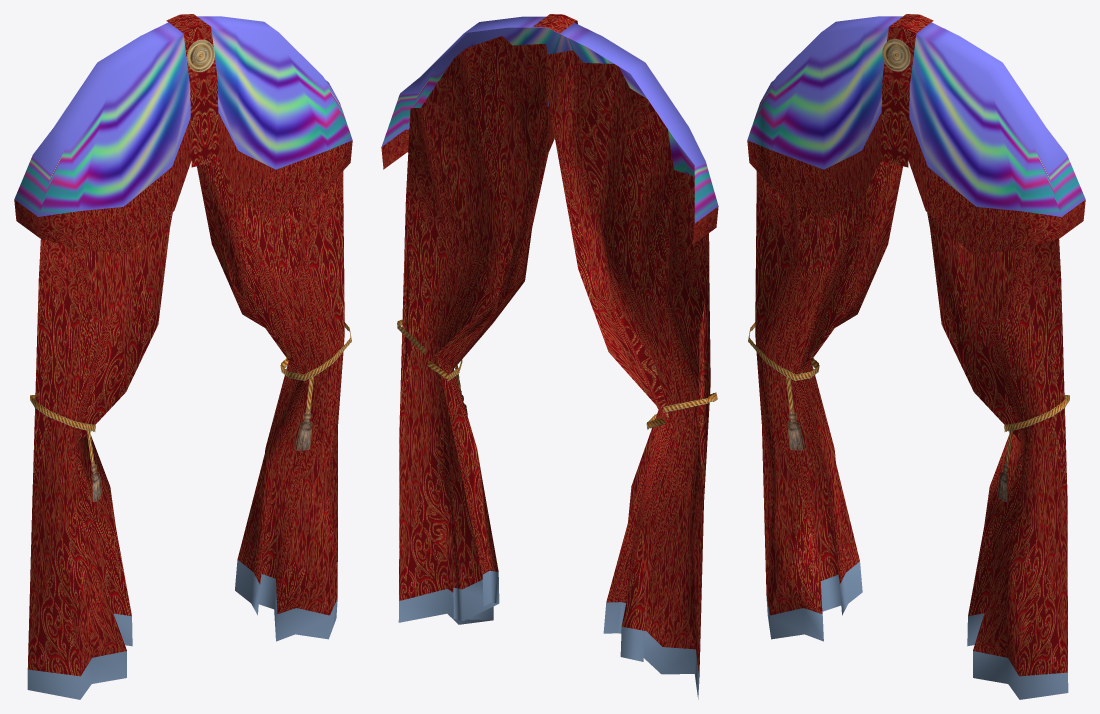
File: CurtainsROUNDTOP.fbx
3 views of the same model, side by side, from view 1: azimuth 30°, elevation 25°; view 2: azimuth 150°, elevation 25°; view 3: azimuth 330°, elevation 25° (orthographic).
Visible parts, largest first — view 1: RoundtopCurtains; view 2: RoundtopCurtains; view 3: RoundtopCurtains.
Boxes of the visible parts, x1=… form: RoundtopCurtains: x1=14, y1=14, x2=352, y2=699; RoundtopCurtains: x1=381, y1=14, x2=718, y2=699; RoundtopCurtains: x1=747, y1=14, x2=1085, y2=699.
Size of the model in its own units: 122 by 237 by 24.8.
